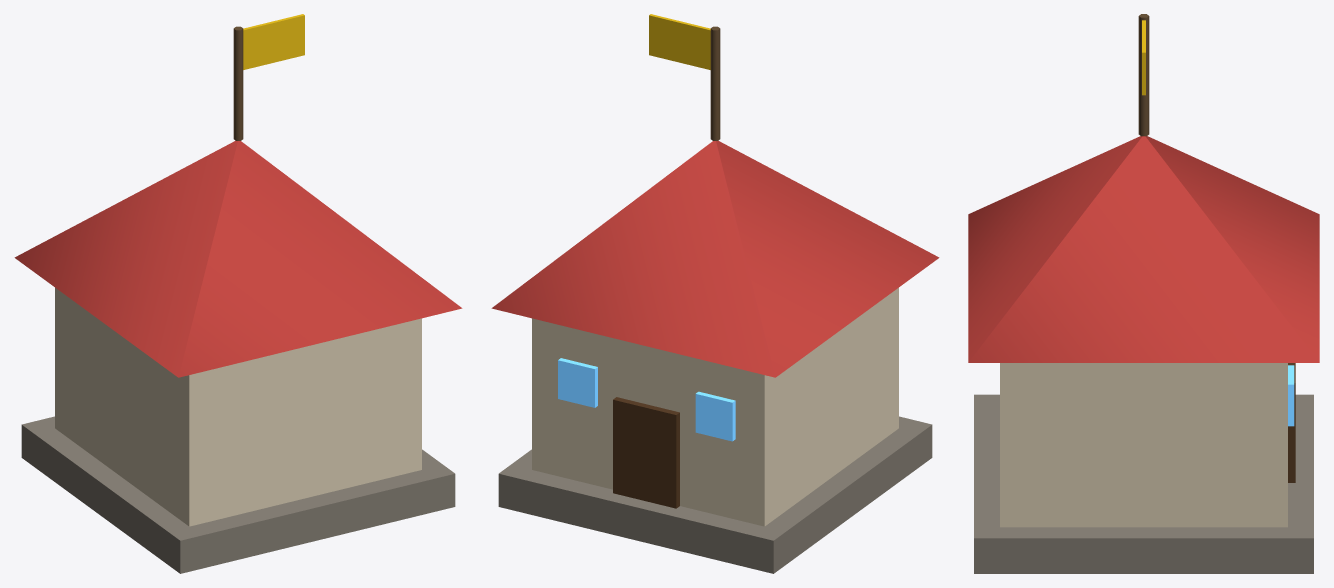
File: town_hall.glb
3 renders of one model, left to right at view 1: azimuth 30°, elevation 25°; view 2: azimuth 150°, elevation 25°; view 3: azimuth 270°, elevation 25°, orthographic. The views are drawn at different scales.
Parts seen in each view (by area): view 1: town_hall_roof, town_hall_walls, town_hall_base, town_hall_cloth, town_hall_pole; view 2: town_hall_roof, town_hall_walls, town_hall_base, town_hall_door, town_hall_cloth, town_hall_win-0.65, town_hall_win0.65, town_hall_pole; view 3: town_hall_roof, town_hall_walls, town_hall_base, town_hall_pole, town_hall_door.
Boxes of the visible parts, box(x1,y1,x2,y2) form: town_hall_roof: box(14, 140, 462, 377); town_hall_walls: box(55, 287, 421, 526); town_hall_base: box(21, 416, 455, 573); town_hall_cloth: box(243, 14, 304, 69); town_hall_pole: box(233, 26, 243, 140); town_hall_roof: box(491, 140, 939, 377); town_hall_walls: box(532, 287, 898, 526); town_hall_base: box(498, 416, 932, 573); town_hall_door: box(613, 397, 679, 508); town_hall_cloth: box(649, 14, 710, 69); town_hall_win-0.65: box(695, 391, 735, 441); town_hall_win0.65: box(558, 358, 597, 407); town_hall_pole: box(710, 26, 720, 140); town_hall_roof: box(968, 136, 1319, 362); town_hall_walls: box(1000, 363, 1287, 527); town_hall_base: box(974, 394, 1313, 573); town_hall_pole: box(1138, 14, 1149, 136); town_hall_door: box(1288, 363, 1295, 482).
Size of the model in its own units: 2.69 by 4.1 by 2.69.
